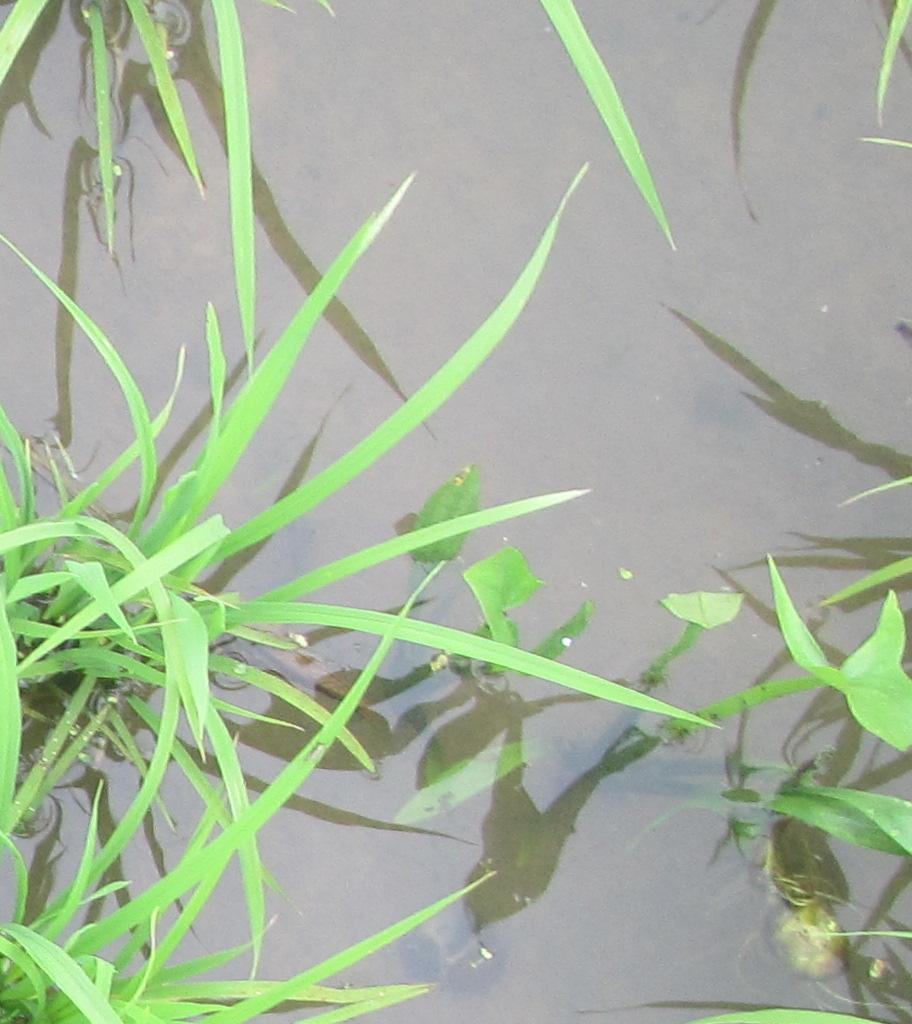Weed: (761, 552, 912, 865), (391, 464, 538, 628)
